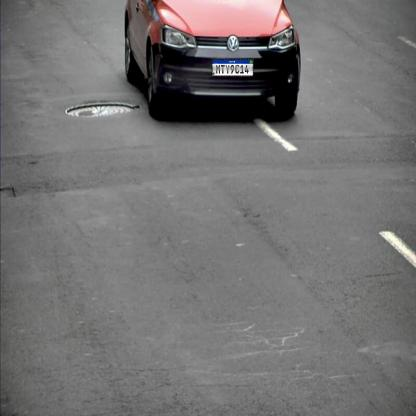PlacaM: (211, 59, 254, 76)
